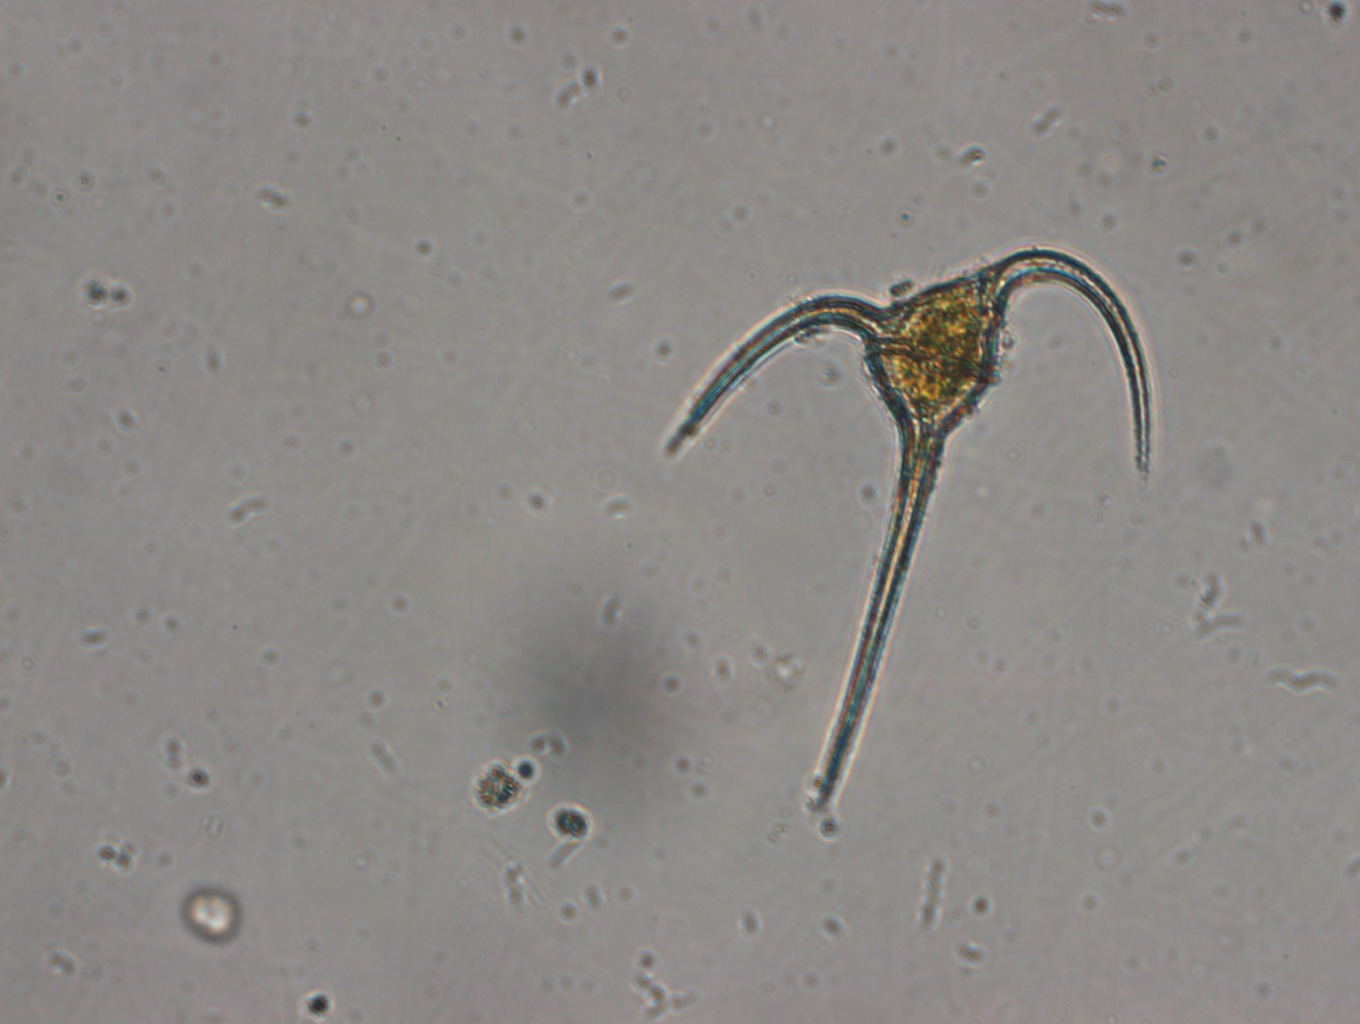ceratium trichoceros: (648, 237, 1159, 817)
